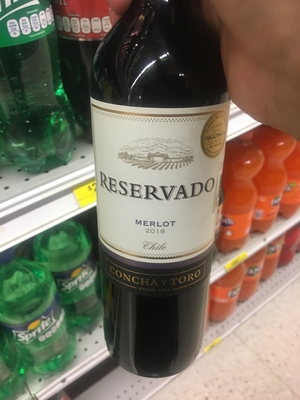reservado merlot: (80, 14, 263, 391)
